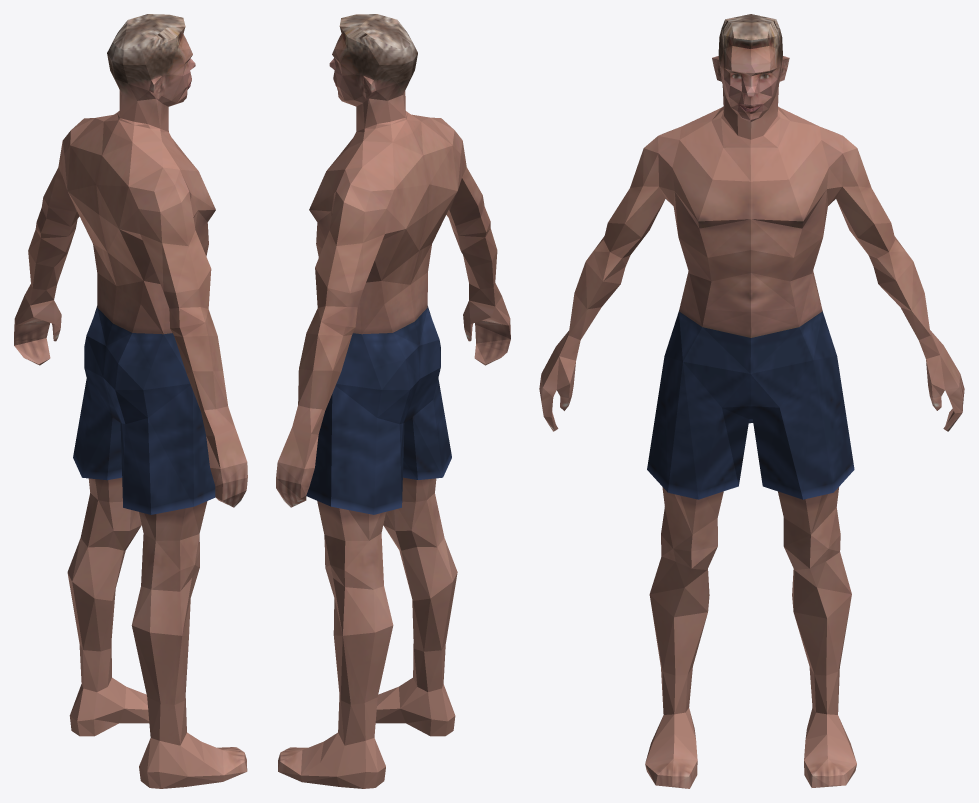
Rendered from wmybe.obj.
3 views of the same model, side by side, from view 1: azimuth 30°, elevation 25°; view 2: azimuth 150°, elevation 25°; view 3: azimuth 270°, elevation 25° (orthographic).
Parts seen in each view (by area): view 1: _Pelvis; view 2: _Pelvis; view 3: _Pelvis.
Boxes of the visible parts, x1,y1,x2,y2 form: _Pelvis: (14,14,247,788); _Pelvis: (276,14,510,788); _Pelvis: (539,14,964,788).
Bounding box in the file's own units: 0.3042 × 1.84 × 0.9548.
1 material, 1 textured.
